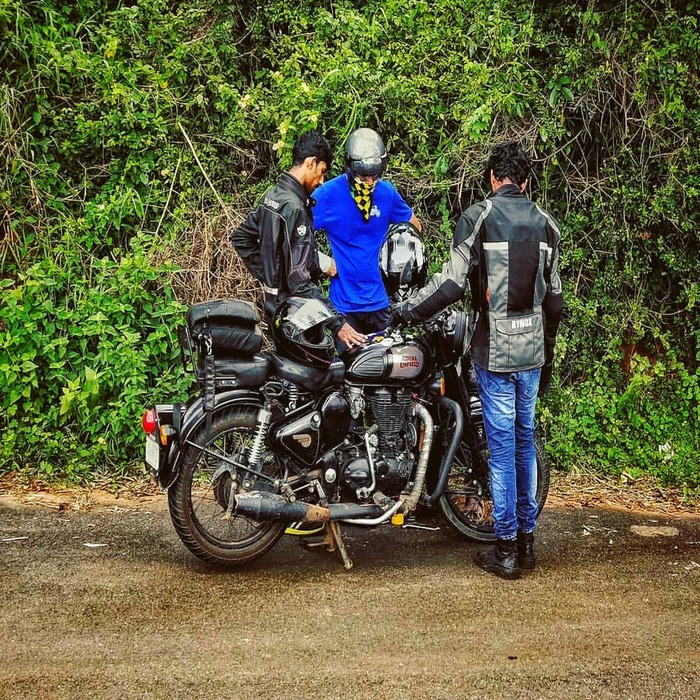h: (373, 222, 432, 300), (341, 122, 391, 192)
